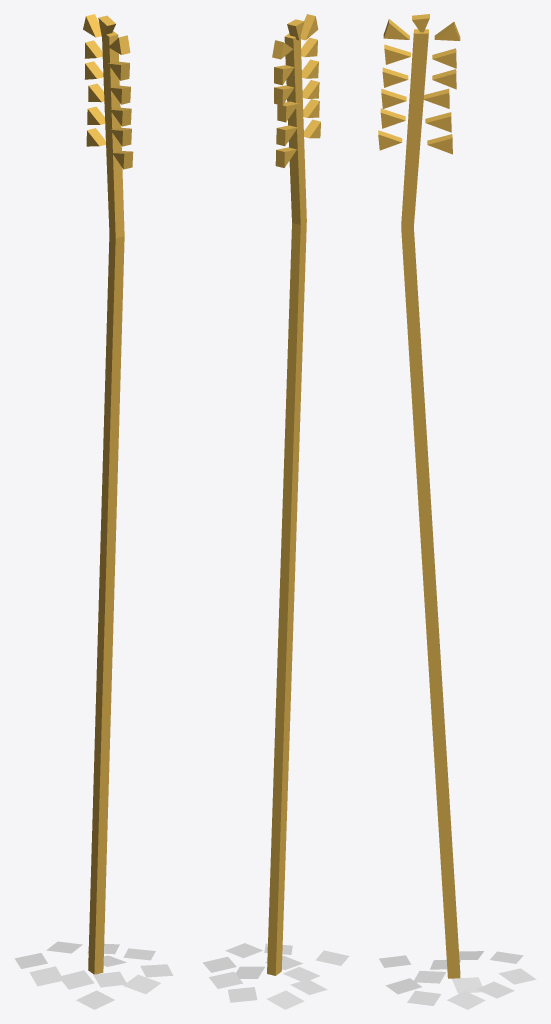
Rendered from rye.glb.
3 views of the same model, side by side, from view 1: azimuth 30°, elevation 25°; view 2: azimuth 150°, elevation 25°; view 3: azimuth 270°, elevation 25° (orthographic). The views are drawn at different scales.
Visible parts, largest first — view 1: rye, rye_copy.001, rye_copy.002, rye_copy, rye_copy.007, rye_copy.006; view 2: rye, rye_copy.008, rye_copy.005, rye_copy.009; view 3: rye, rye_copy.010, rye_copy.004.
Boxes of the visible parts, x1,y1,x2,y2 form: rye: (83,14,133,974); rye_copy.001: (29,966,63,986); rye_copy.002: (123,974,160,994); rye_copy: (61,970,94,989); rye_copy.007: (76,990,114,1009); rye_copy.006: (93,971,126,987); rye: (267,14,320,975); rye_copy.008: (266,990,304,1009); rye_copy.005: (228,987,257,1002); rye_copy.009: (209,971,243,988); rye: (378,14,460,978); rye_copy.010: (447,991,485,1009); rye_copy.004: (452,977,482,993).
Size of the model in its own units: 0.1287 by 0.9616 by 0.1439.
